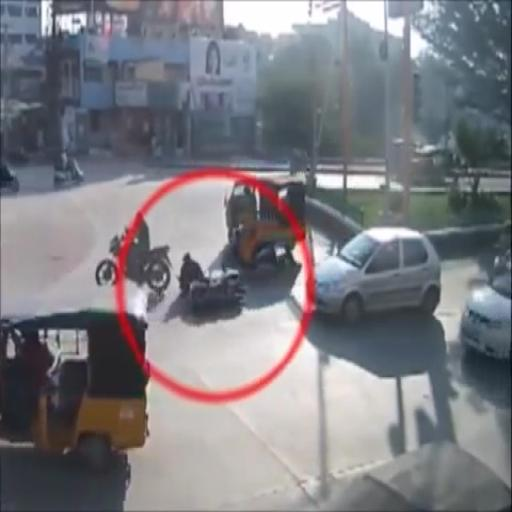小汽车: (4, 286, 146, 469), (309, 225, 442, 319), (222, 174, 302, 259)
自行车: (96, 212, 172, 294), (178, 248, 251, 315), (224, 221, 290, 283)
